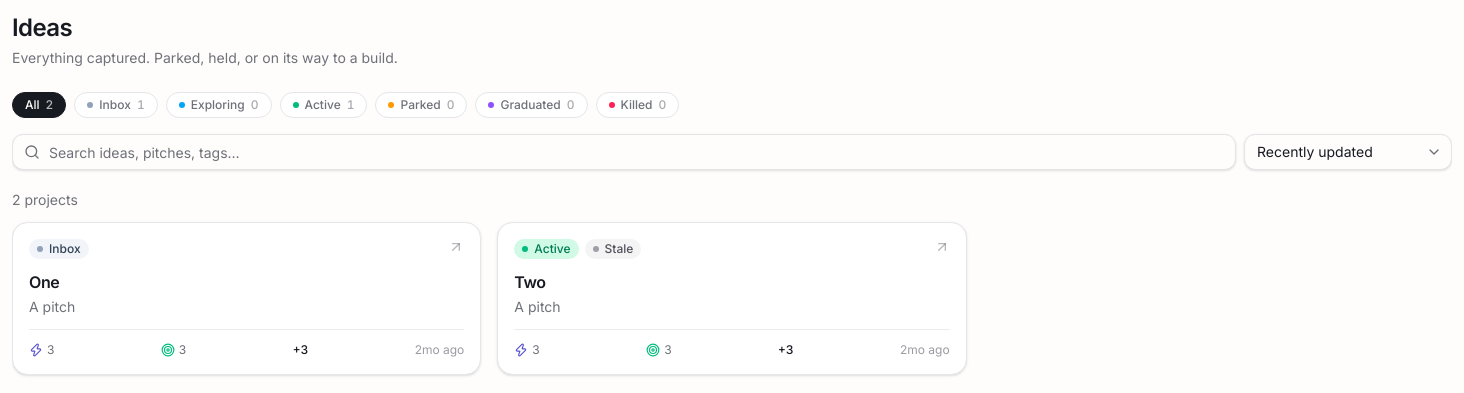
Test case: DashboardPage project count (issue #13) › counts a status filter as filtering
Expected: the heading "One" is shown, 29,272 -> 59,292
Click the button "Inbox 1" at x=116, y=105, box 74,92 -> 158,118
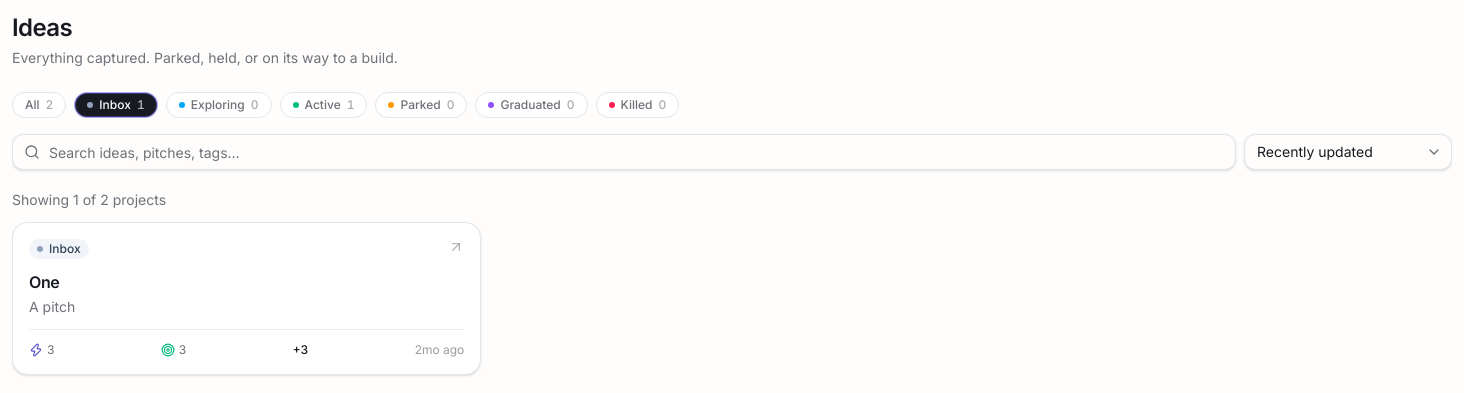
Expected: the text with test id "project-count" reads "Showing 1 of 2 projects", 12,191 -> 166,208
